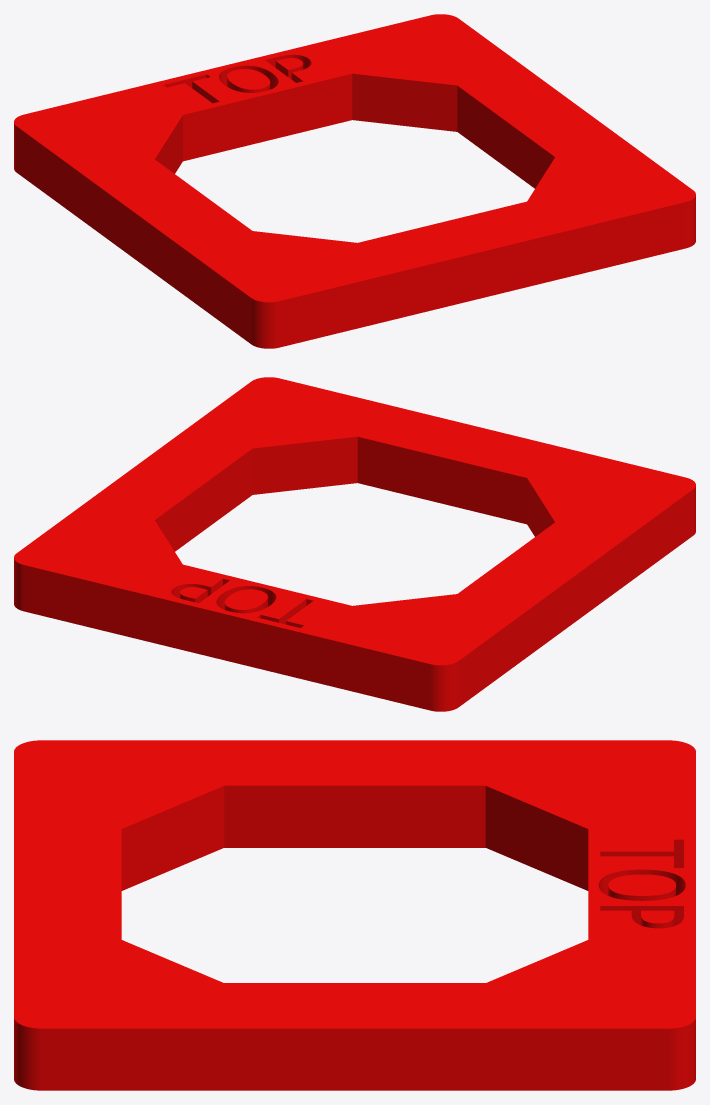
File: Cube 1x1 V5_Cube 1x1 V5 Top Press.obj
3 views of the same model, one above another, from view 1: azimuth 30°, elevation 25°; view 2: azimuth 150°, elevation 25°; view 3: azimuth 270°, elevation 25° (orthographic). The views are drawn at different scales.
Parts seen in each view (by area): view 1: Solid1:11; view 2: Solid1:11; view 3: Solid1:11.
Boxes of the visible parts, x1=… form: Solid1:11: x1=14, y1=14, x2=695, y2=348; Solid1:11: x1=14, y1=377, x2=695, y2=711; Solid1:11: x1=14, y1=740, x2=695, y2=1090.
Bounding box in the file's own units: 49.8 × 5 × 49.8.
